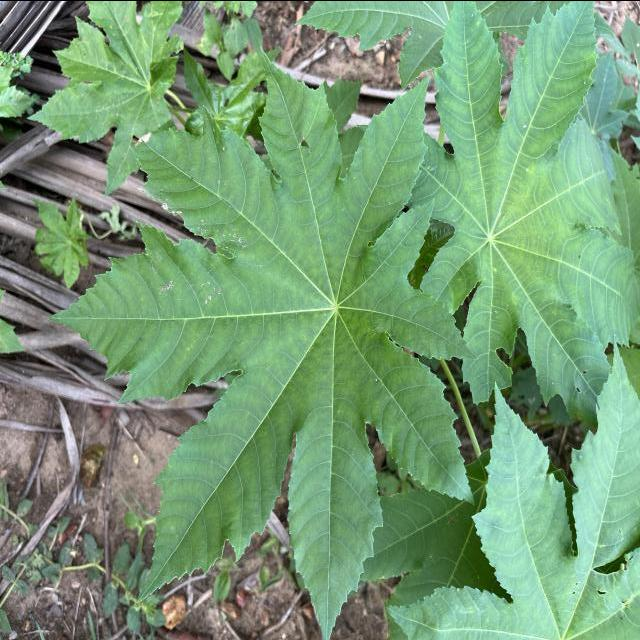Ricinus communis linn: (47, 39, 484, 640), (401, 0, 640, 425)
